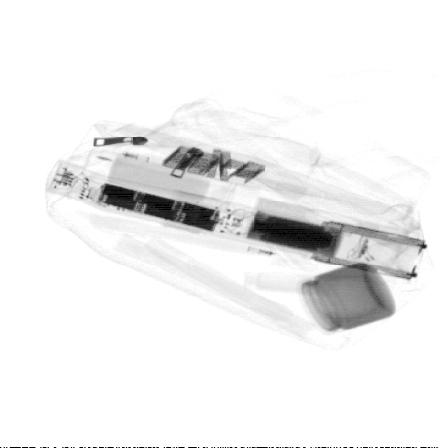Baton: (46, 158, 429, 283)
